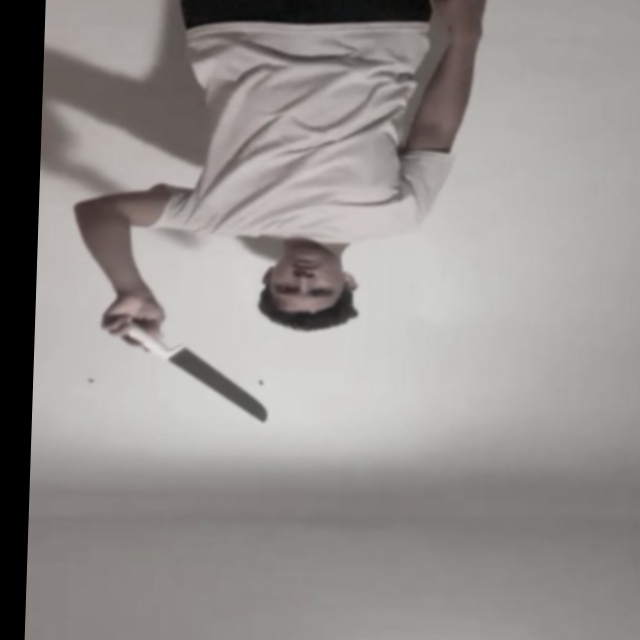Sharp-Object: (170, 354, 271, 425)
